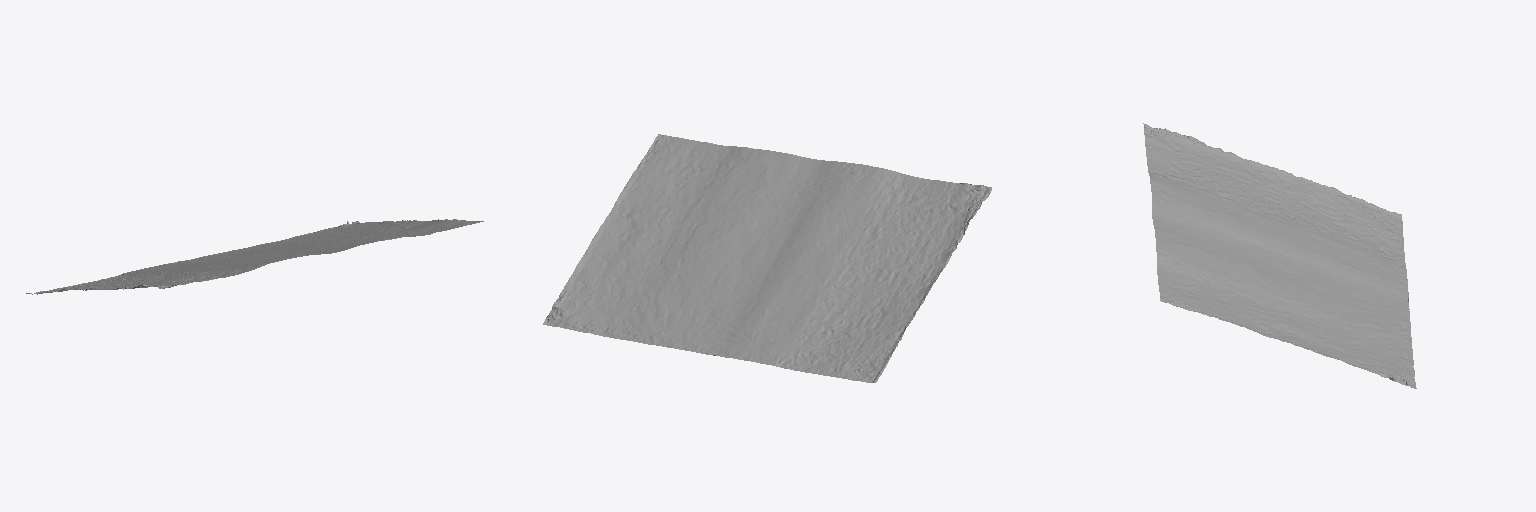
File: tube_def_clean_edges_2.obj
The picture shows the model from 3 angles: view 1: azimuth 30°, elevation 25°; view 2: azimuth 150°, elevation 25°; view 3: azimuth 270°, elevation 25°; orthographic projection.
Parts seen in each view (by area): view 1: type1_captian_america; view 2: type1_captian_america; view 3: type1_captian_america.
Boxes of the visible parts, <box> form: type1_captian_america: <box>26,219,483,294</box>; type1_captian_america: <box>543,134,991,382</box>; type1_captian_america: <box>1143,123,1416,388</box>.
Bounding box in the file's own units: 3.1 × 0.9988 × 2.17.